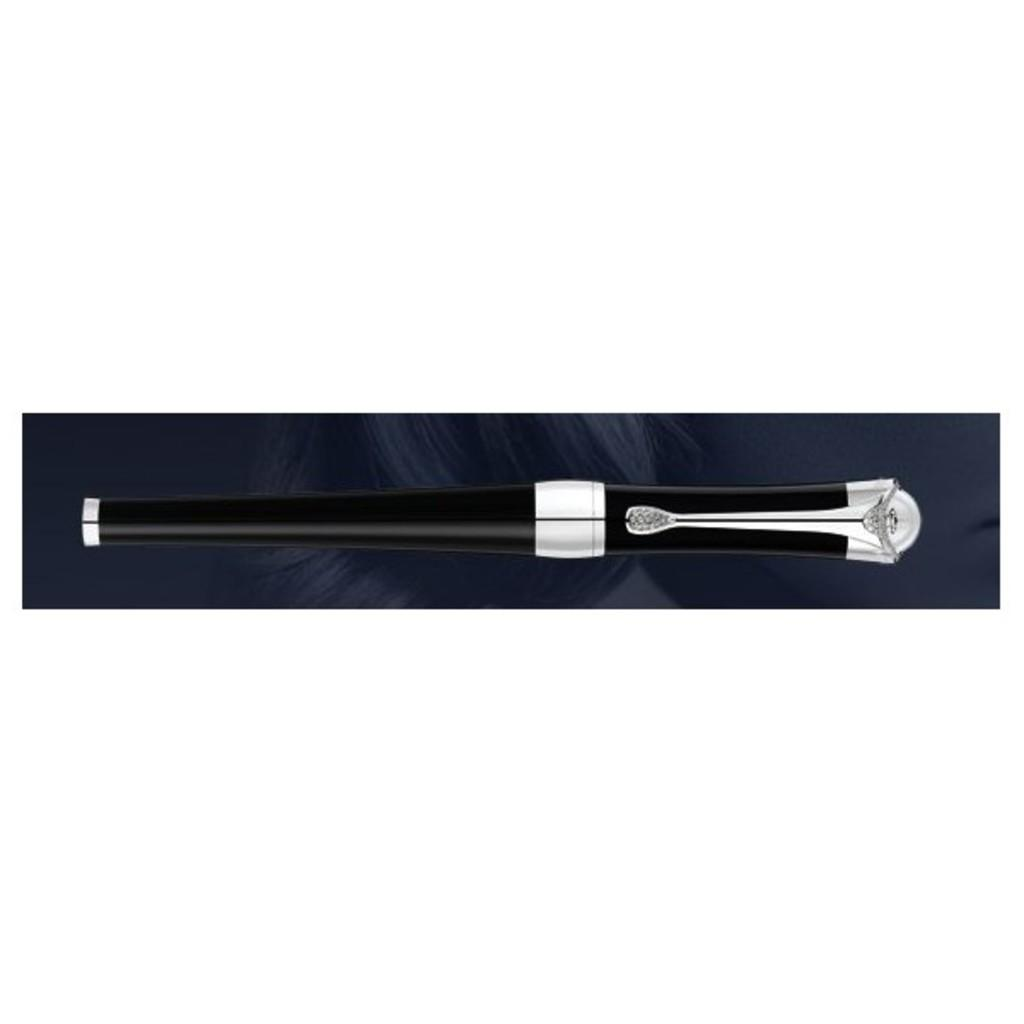pen: (72, 476, 922, 565)
